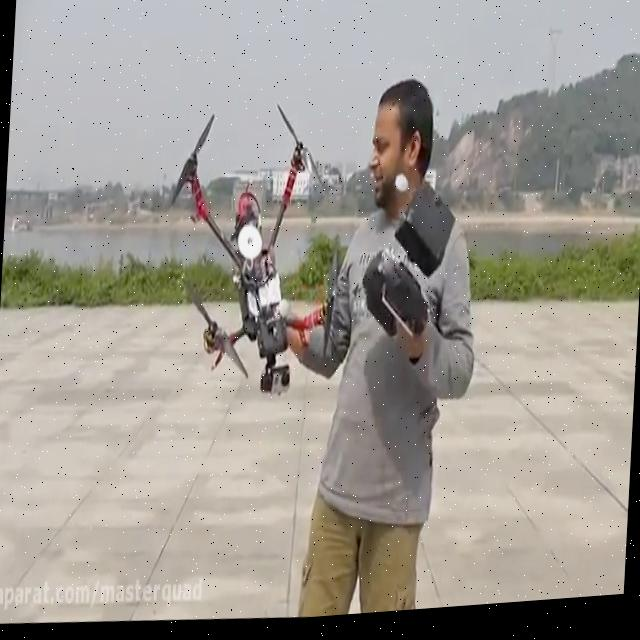drone: (157, 93, 347, 413)
